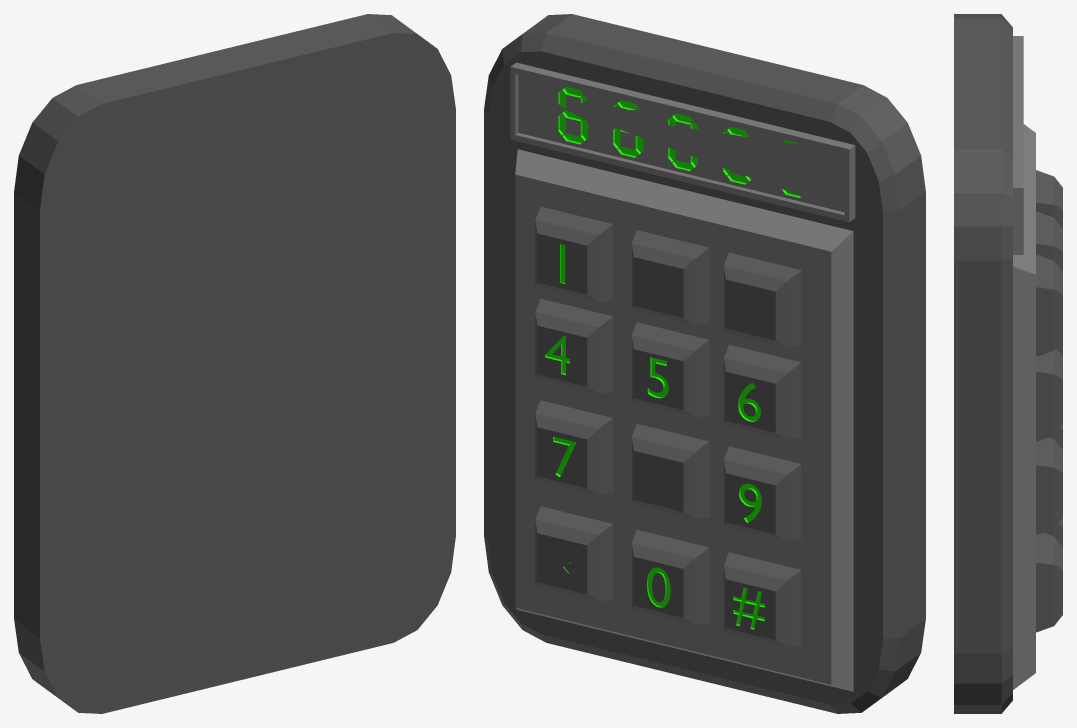
Rendered from Keypad on.fbx.
3 renders of one model, left to right at view 1: azimuth 30°, elevation 25°; view 2: azimuth 150°, elevation 25°; view 3: azimuth 270°, elevation 25°, orthographic. The views are drawn at different scales.
Parts seen in each view (by area): view 1: key 2; view 2: key 2; view 3: key 2.
Boxes of the visible parts, <box> form: key 2: <box>14,14,455,713</box>; key 2: <box>484,14,925,713</box>; key 2: <box>954,14,1062,713</box>.
Bounding box in the file's own units: 27.12 × 38 × 6.69.
